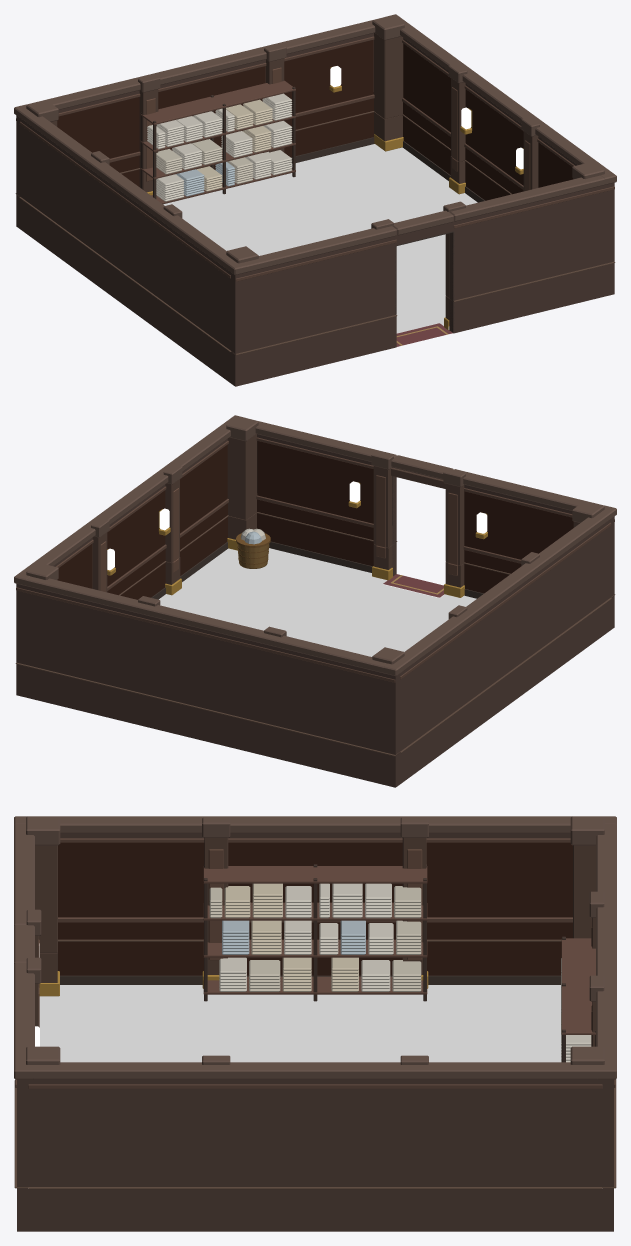
Rendered from linenStore1.glb.
The picture shows the model from 3 angles, top to bottom: view 1: azimuth 30°, elevation 25°; view 2: azimuth 150°, elevation 25°; view 3: azimuth 270°, elevation 25°; orthographic projection. The views are drawn at different scales.
Visible parts, largest first — view 1: static, W_north_0_up, floor, W_west_0_up, W_south_0_up, W_south_1_up, W_east_0_up; view 2: W_north_0_up, static, W_west_0_up, floor, W_south_1_up, W_east_0_up, W_south_0_up; view 3: static, W_east_0_up, W_west_0_up, floor, W_north_0_up, W_south_0_up, W_south_1_up.
Part boxes in pixels (x1=…): static: x1=15, y1=80, x2=615, y2=386; W_north_0_up: x1=14, y1=15, x2=404, y2=196; floor: x1=163, y1=144, x2=477, y2=346; W_west_0_up: x1=14, y1=104, x2=246, y2=350; W_south_0_up: x1=226, y1=210, x2=453, y2=353; W_south_1_up: x1=443, y1=162, x2=616, y2=300; W_east_0_up: x1=385, y1=14, x2=616, y2=194; W_north_0_up: x1=14, y1=563, x2=404, y2=754; static: x1=15, y1=493, x2=615, y2=787; W_west_0_up: x1=384, y1=505, x2=616, y2=751; floor: x1=159, y1=548, x2=476, y2=656; W_south_1_up: x1=226, y1=416, x2=396, y2=547; W_east_0_up: x1=14, y1=415, x2=245, y2=595; W_south_0_up: x1=391, y1=455, x2=616, y2=597; static: x1=14, y1=864, x2=616, y2=1231; W_east_0_up: x1=14, y1=1055, x2=616, y2=1186; W_west_0_up: x1=14, y1=816, x2=616, y2=942; floor: x1=39, y1=985, x2=560, y2=1062; W_north_0_up: x1=570, y1=816, x2=616, y2=1186; W_south_0_up: x1=14, y1=816, x2=60, y2=987; W_south_1_up: x1=14, y1=957, x2=60, y2=1186.
Bounding box in the file's own units: 8.08 × 2.48 × 8.08.
